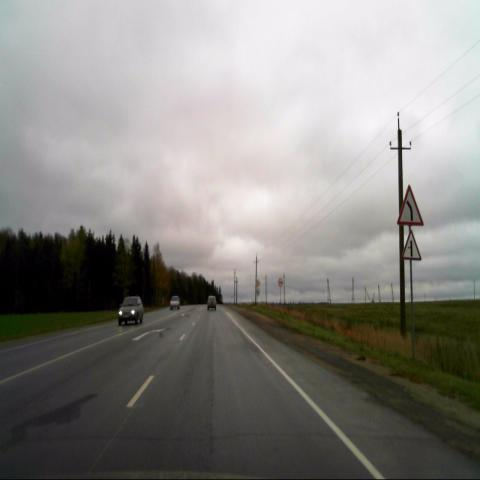2_3_3: (401, 230, 421, 260)
